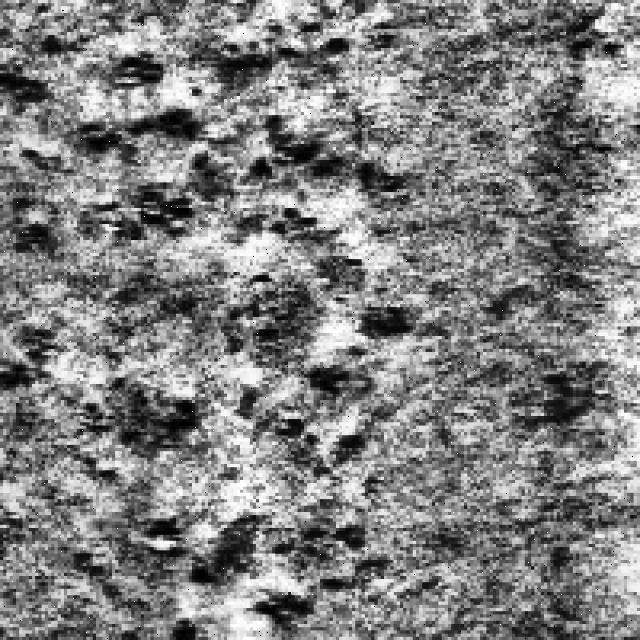Crazing: (0, 0, 400, 243), (70, 358, 381, 630)
